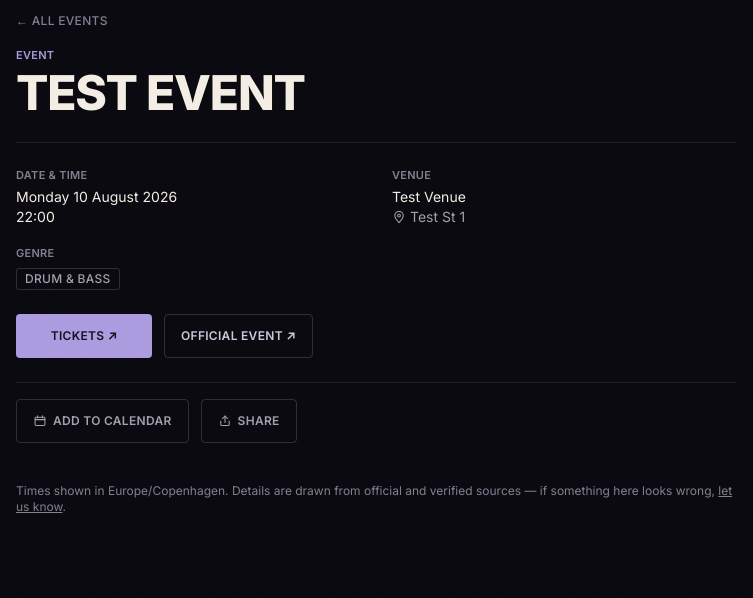
Event detail page — Share button (2026-09-13; relocated below Genre, 2026-09-13 follow-up; text field removed, 2026-09-13 follow-up) › does not alter the existing Official event/Tickets CTAs, and Add to calendar still offers all three calendars
The width and height of the screenshot is (753, 598).
Check: the link "Official event ↗" is shown, box [164,314,313,358]
Check: the link "Tickets ↗" is shown, box [16,314,152,358]
Click the button "Add to calendar".
click(102, 421)  # box [16,399,189,443]
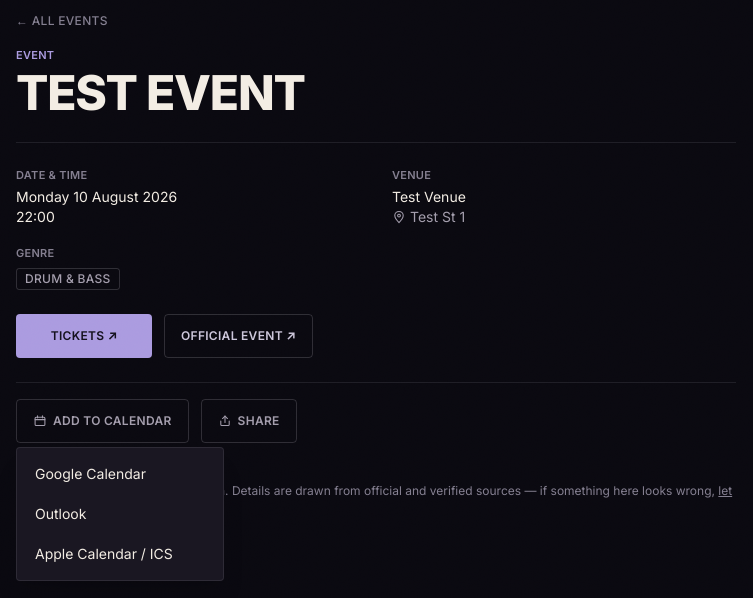
Check: the menu item "Google Calendar" is shown, box [35,464,280,482]
Check: the menu item "Outlook" is shown, box [35,504,220,522]
Check: the menu item "Apple Calendar / ICS" is shown, box [35,545,173,562]
